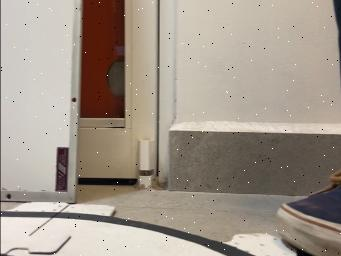street: (0, 212, 255, 256)
